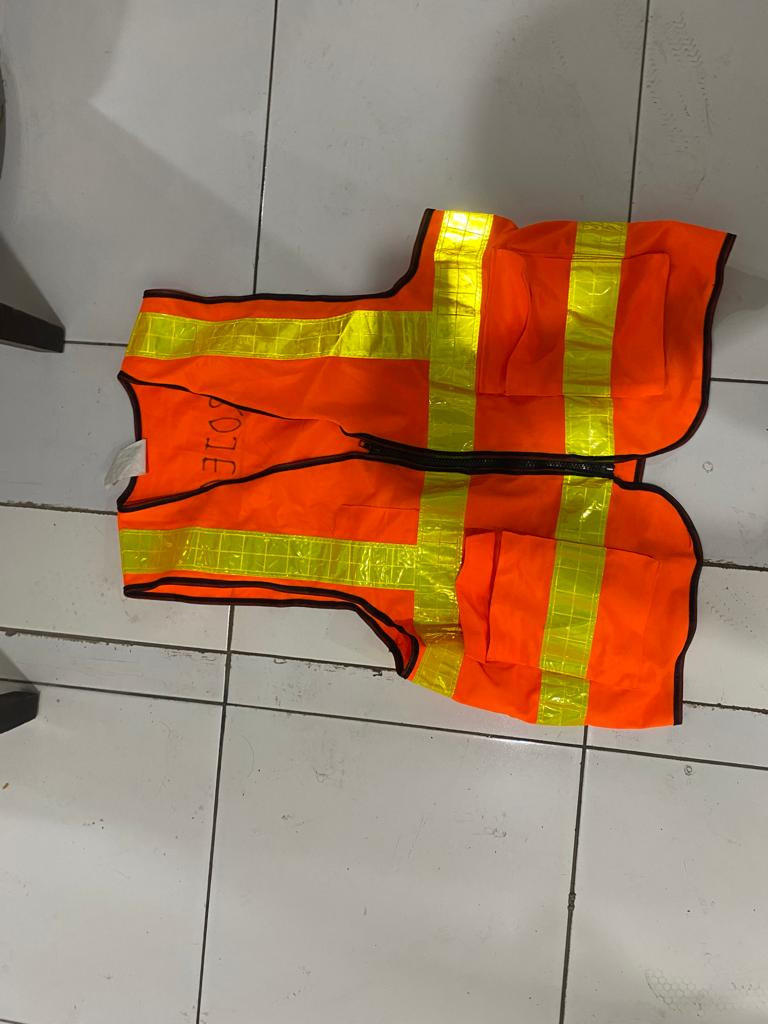ROMPI: (150, 246, 675, 687)
